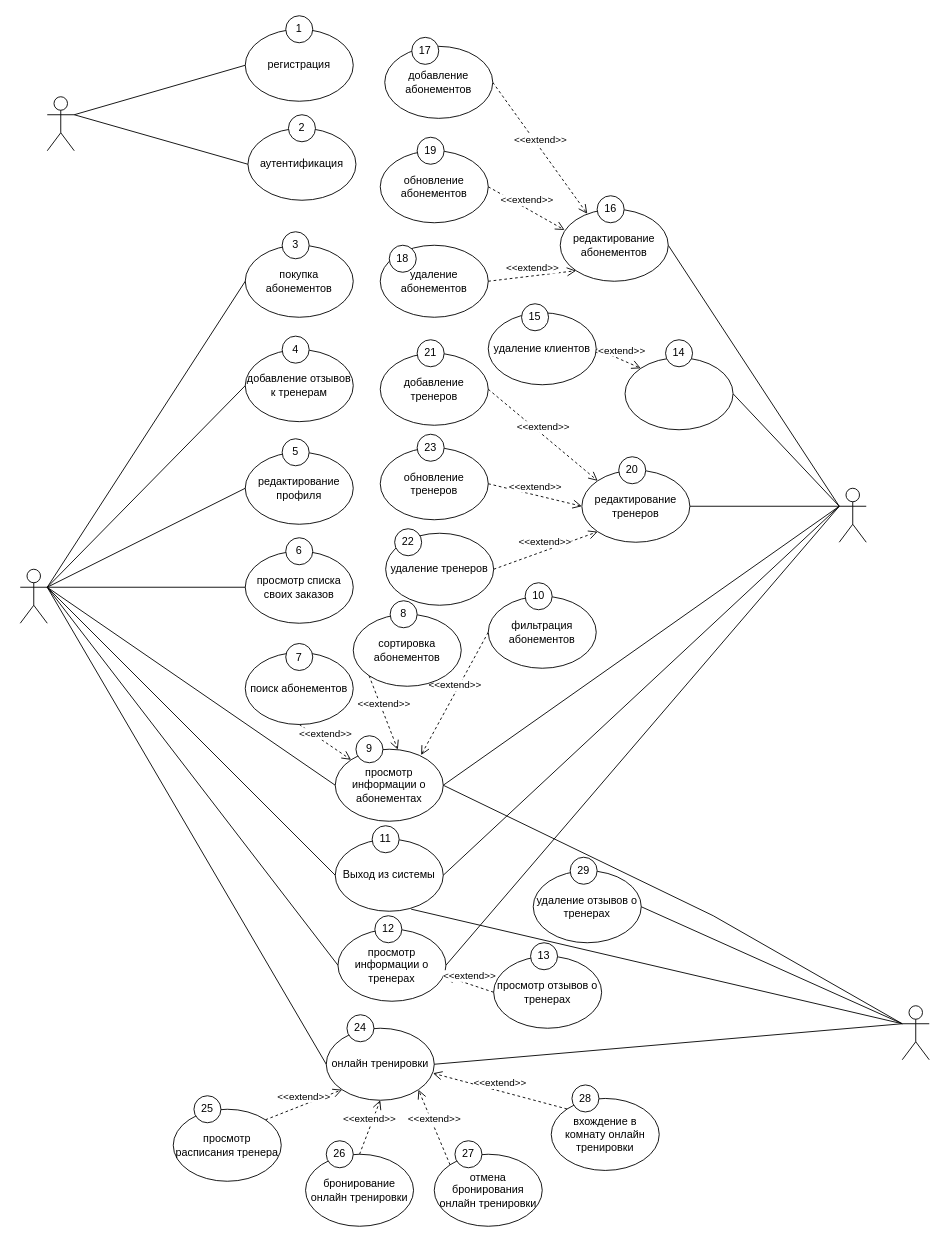
This 949x1242 diagram has some shape labels left out. The centre of each missing label's shape, as x and y in pixels:
"Администратор" goes at (852,514).
"Гость" goes at (60,123).
"Клиент" goes at (33,595).
"редактирование клиентов" goes at (678,393).
"Тренер" goes at (915,1032).
